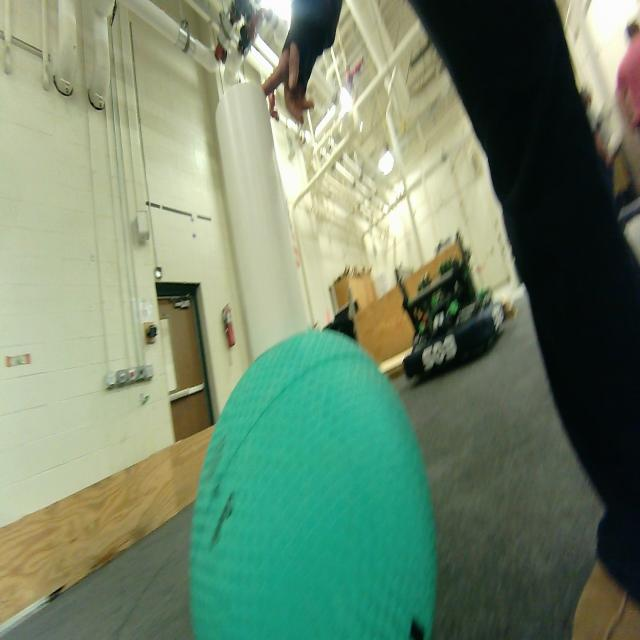algae: (191, 327, 436, 640)
